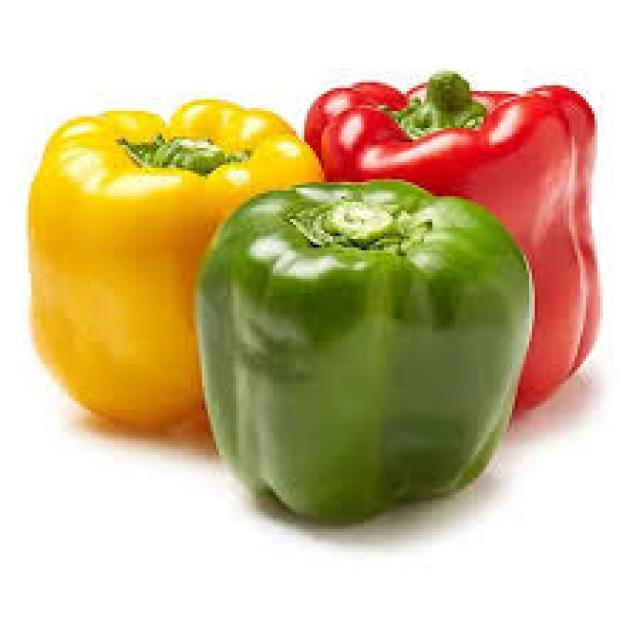Pepper: (192, 180, 534, 528), (301, 77, 606, 422), (27, 98, 326, 439)
